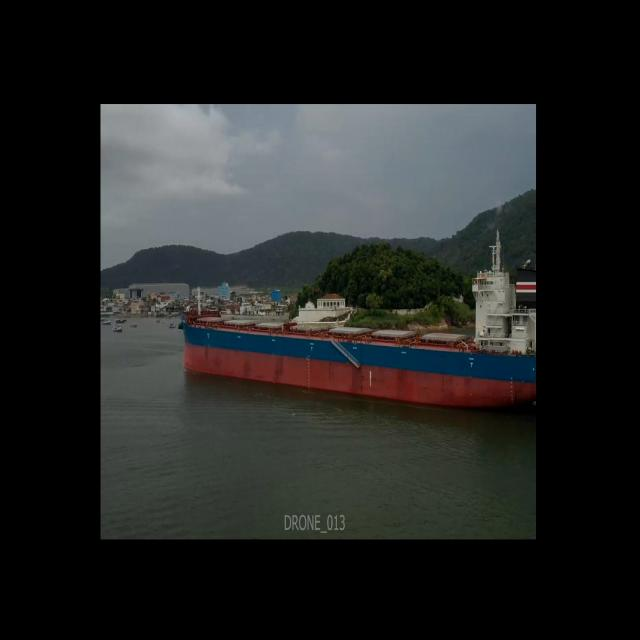ship: (182, 255, 536, 410)
